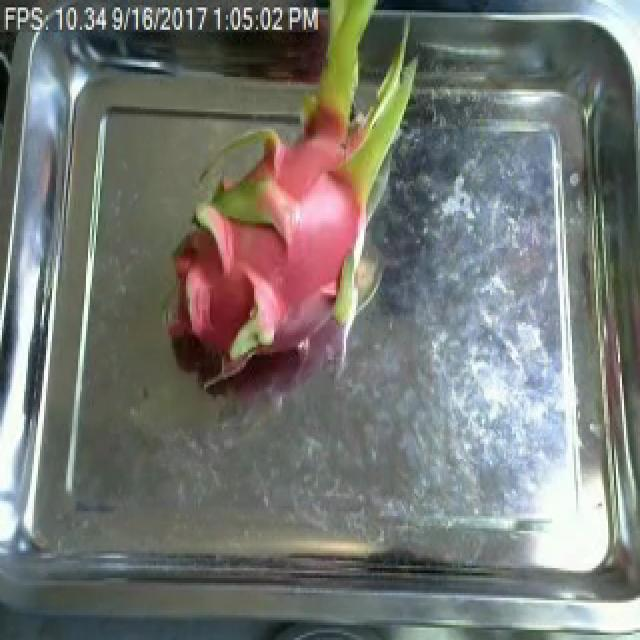fruit: (144, 2, 438, 402)
